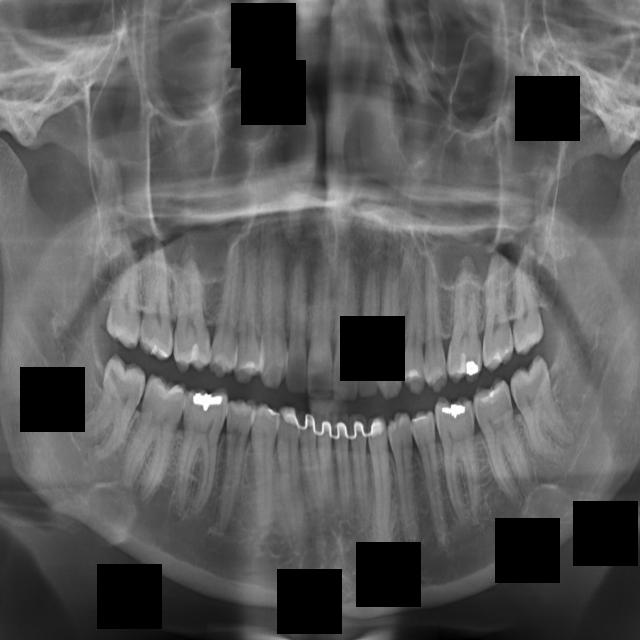3M ESPE Implant: (105, 248, 145, 350)
AGS Medikal Implant: (358, 263, 377, 394)
AMerOss Implant: (378, 253, 401, 397)
Amalgam filling: (398, 266, 424, 394)
Anthogyr Implant: (411, 248, 448, 392)
Bicon Implant: (441, 255, 483, 380)
BioHorizons Implant: (478, 252, 514, 370)
BioLife Implant: (500, 240, 547, 354)
Biomet 3i Implant: (504, 356, 583, 467)
Blue Sky Bio Implant: (469, 379, 541, 508)
Camlog Implant: (432, 391, 493, 523)
Caries: (139, 237, 176, 359)
Composite filling: (410, 409, 450, 547)
Cowellmedi Implant: (385, 411, 422, 549)
Crown: (366, 416, 397, 541)
DENTSPLY Implant: (348, 414, 370, 519)
Dentatus Implant: (332, 414, 351, 513)
Dentis Implant: (316, 414, 335, 506)
Dentium Implant: (296, 410, 326, 511)
Euroteknika Implant: (274, 408, 307, 531)
Filling: (247, 405, 278, 526)
Frontier Implant: (204, 394, 257, 535)
Hiossen Implant: (172, 257, 215, 371)
Implant: (116, 374, 191, 505)
Implant Direct: (172, 384, 231, 519)
Keystone Dental Implant: (70, 350, 155, 465)
MIS Implant: (207, 235, 256, 379)
Mandible: (235, 248, 260, 383)
Maxilla: (253, 224, 290, 388)
Megagen Implant: (285, 256, 310, 393)
Neodent Implant: (307, 243, 332, 398)
Neoss Implant: (333, 253, 358, 401)
